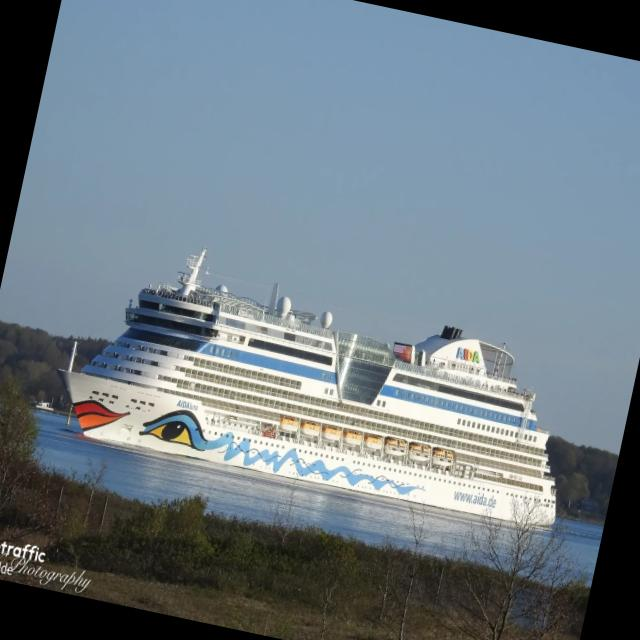Cruise: (59, 248, 555, 525)
